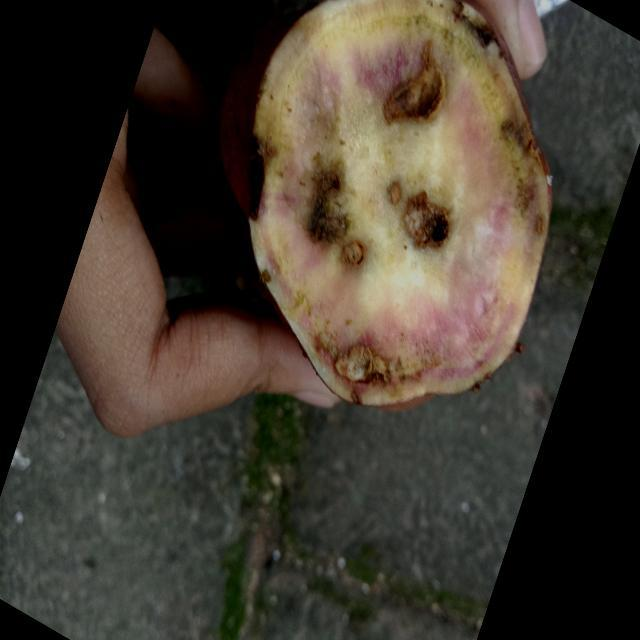Sick Sweet Potato_Tuber Rot: (250, 2, 551, 405)
